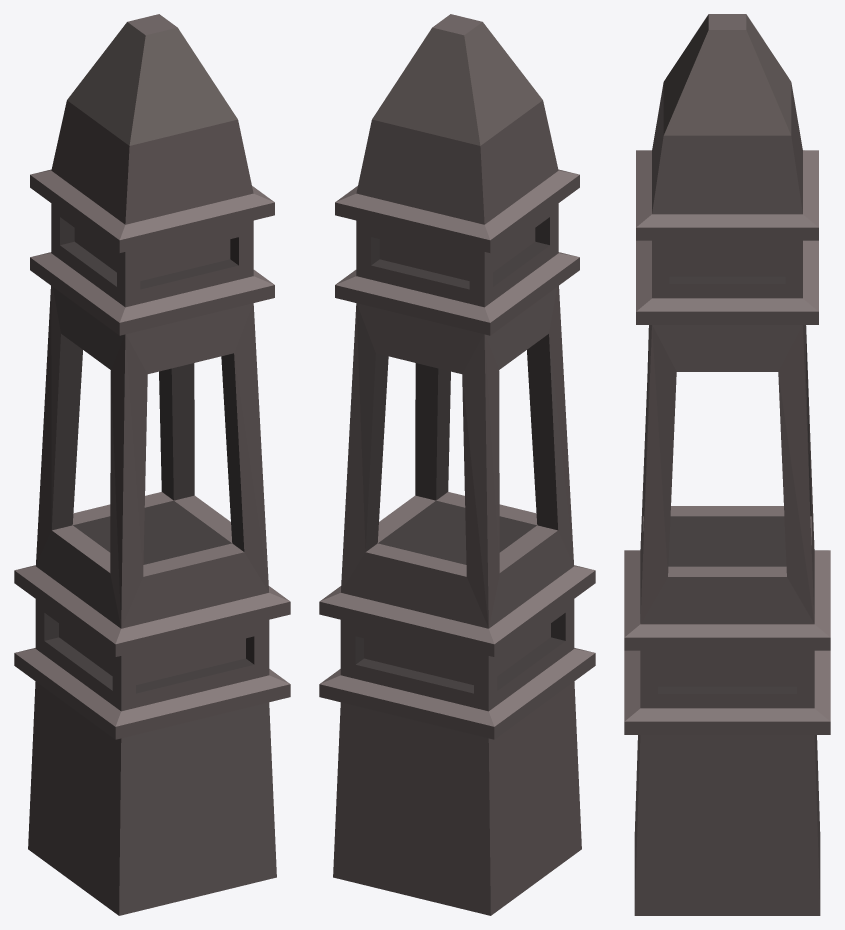
File: wilderness-obelisks.gltf
The picture shows the model from 3 angles, left to right: view 1: azimuth 30°, elevation 25°; view 2: azimuth 150°, elevation 25°; view 3: azimuth 270°, elevation 25°; orthographic projection.
Bounding box in the file's own units: 142 × 650 × 142.
1 material, 1 textured.
